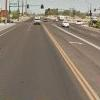Traffic light: (23, 1, 57, 14)
